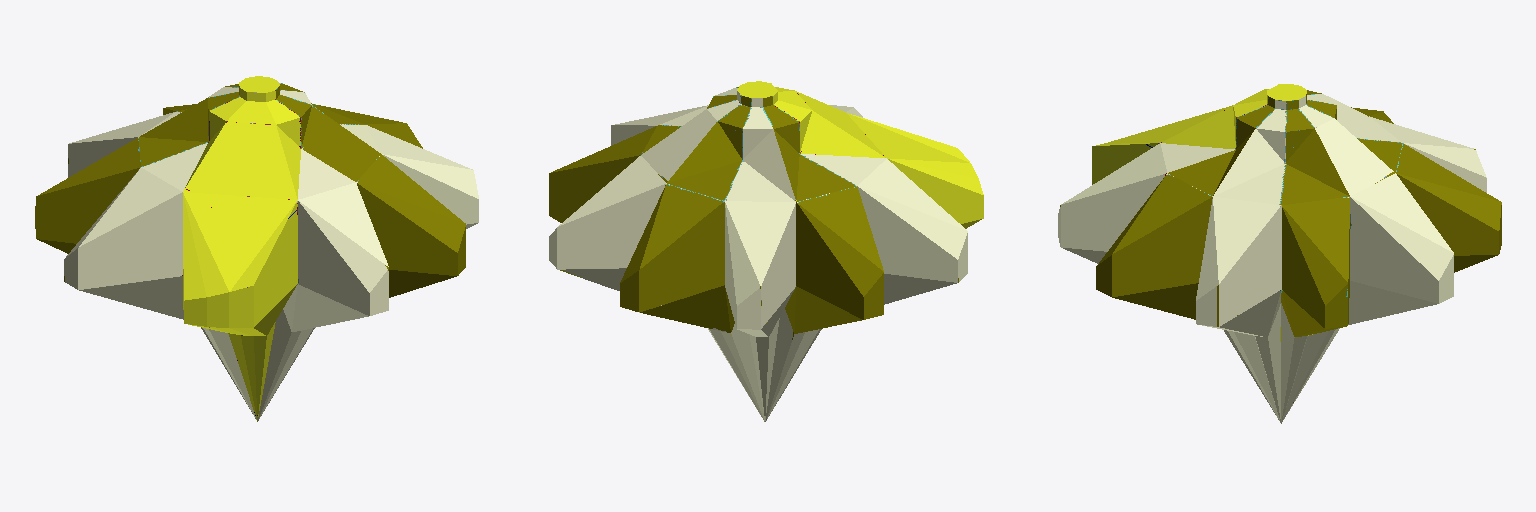
3 renders of one model, left to right at view 1: azimuth 30°, elevation 25°; view 2: azimuth 150°, elevation 25°; view 3: azimuth 270°, elevation 25°, orthographic.
Parts seen in each view (by area): view 1: 円錐; view 2: 円錐; view 3: 円錐.
Part boxes in pixels (x1,y1,x2,y2): 円錐: (35, 76, 478, 421); 円錐: (549, 81, 983, 421); 円錐: (1058, 84, 1501, 423).
Bounding box in the file's own units: 9.87 × 8.25 × 9.93.
Materials: 1 (1 with a texture image).